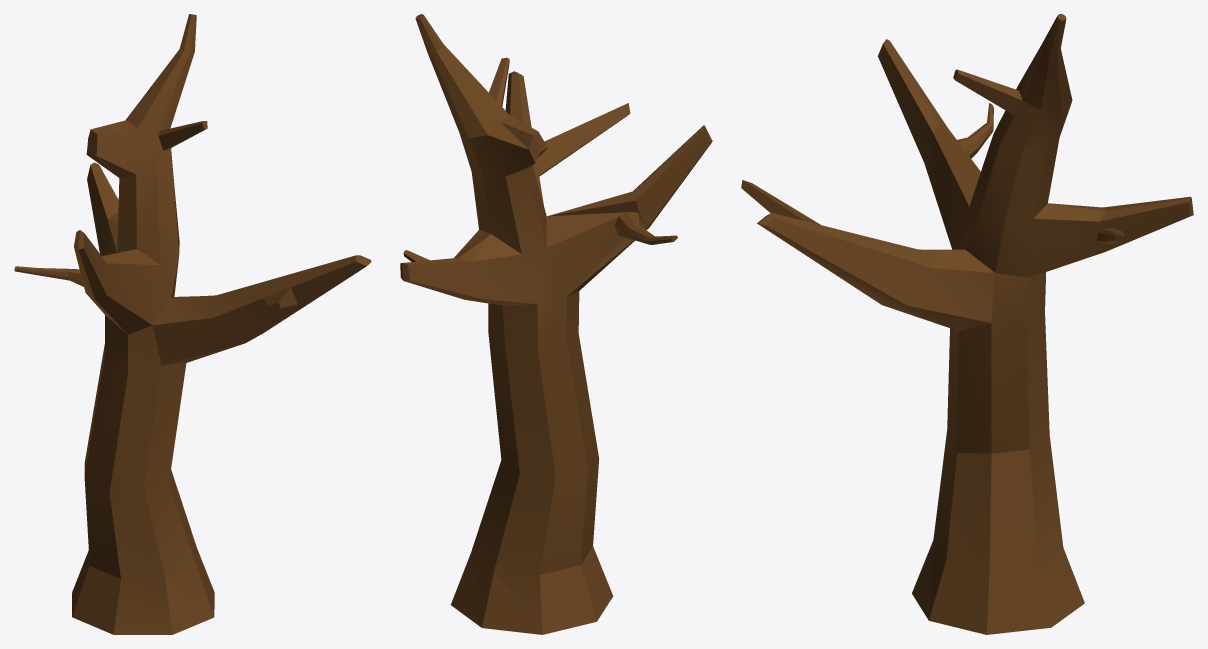
The model's file is Vegetation_Tree_Trunk_02.fbx.
3 views of the same model, side by side, from view 1: azimuth 30°, elevation 25°; view 2: azimuth 150°, elevation 25°; view 3: azimuth 270°, elevation 25° (orthographic). The views are drawn at different scales.
Visible parts, largest first — view 1: Vegetation_Tree_Trunk_02; view 2: Vegetation_Tree_Trunk_02; view 3: Vegetation_Tree_Trunk_02.
Part boxes in pixels (box(x1,y1,x2,y2)): Vegetation_Tree_Trunk_02: box(14, 14, 371, 634); Vegetation_Tree_Trunk_02: box(400, 14, 712, 634); Vegetation_Tree_Trunk_02: box(741, 14, 1193, 634).
Bounding box in the file's own units: 87.82 × 180 × 118.
